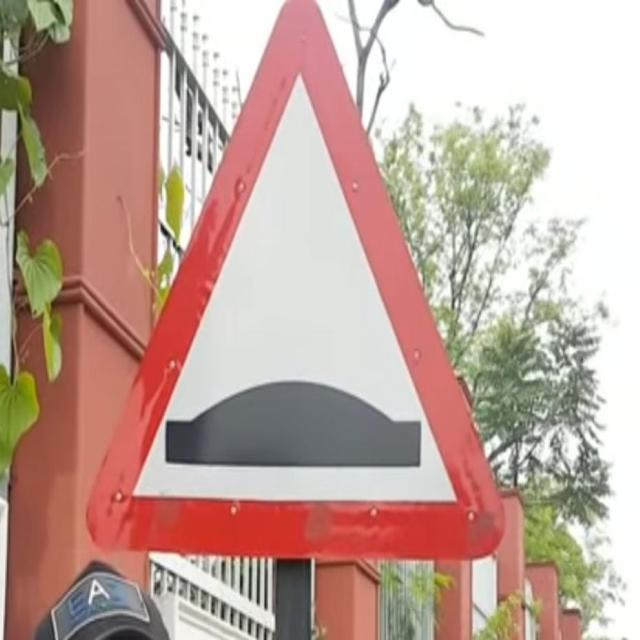hump or rough road: (84, 22, 514, 536)
